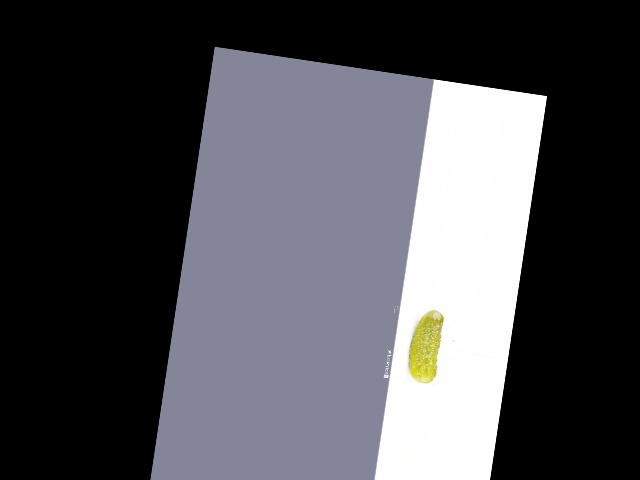cucumber: (404, 306, 445, 384)
